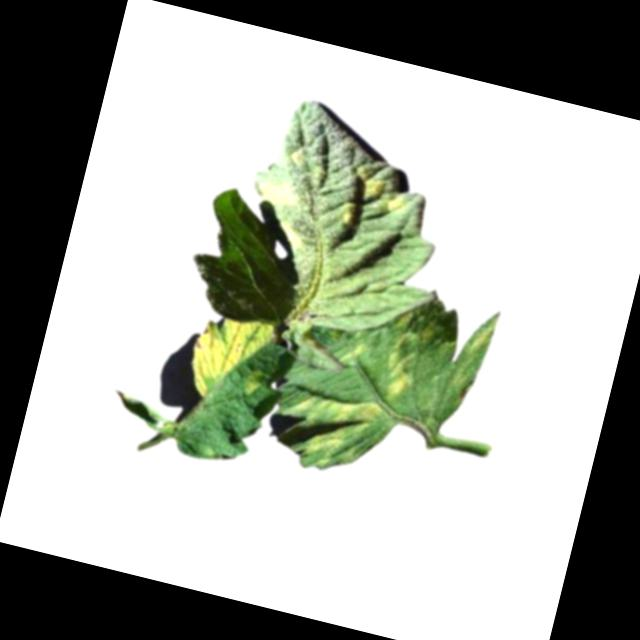Leaf_Mold: (182, 305, 275, 407), (282, 380, 387, 468), (373, 327, 424, 406), (254, 171, 305, 211), (350, 166, 385, 204), (384, 189, 407, 214)
